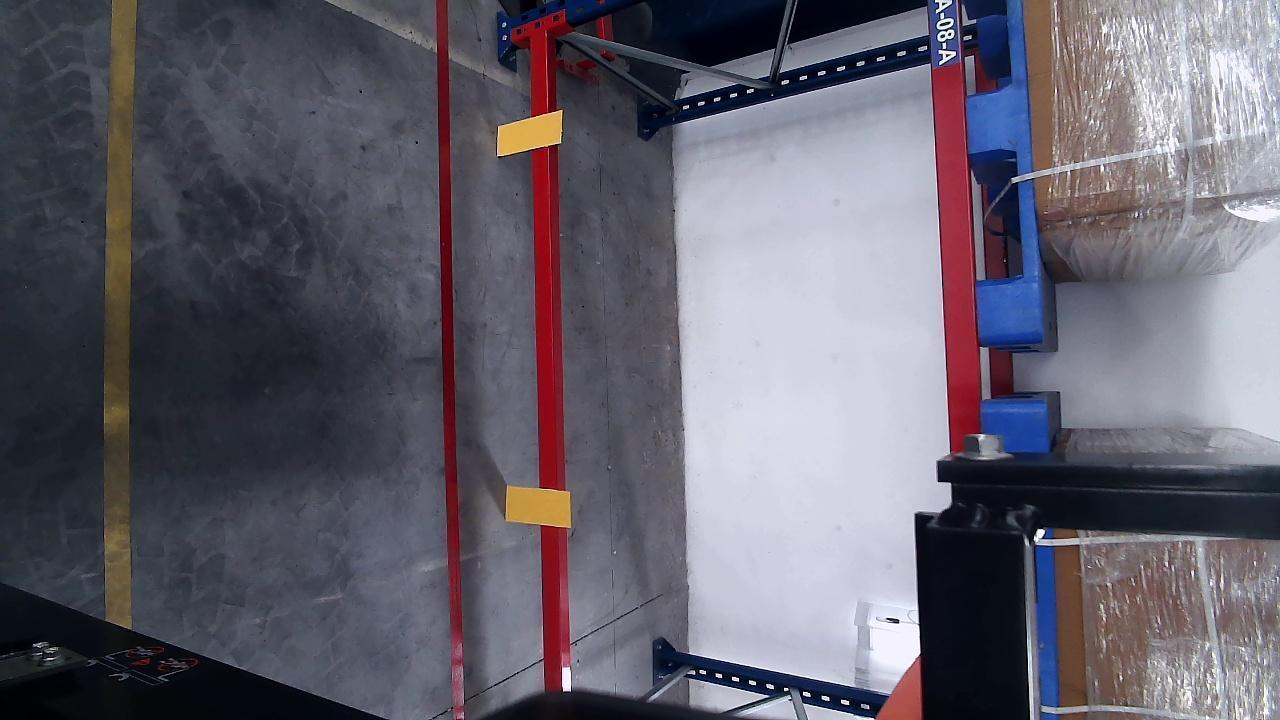red_line: (434, 1, 464, 720)
yellow_line: (106, 2, 137, 628)
